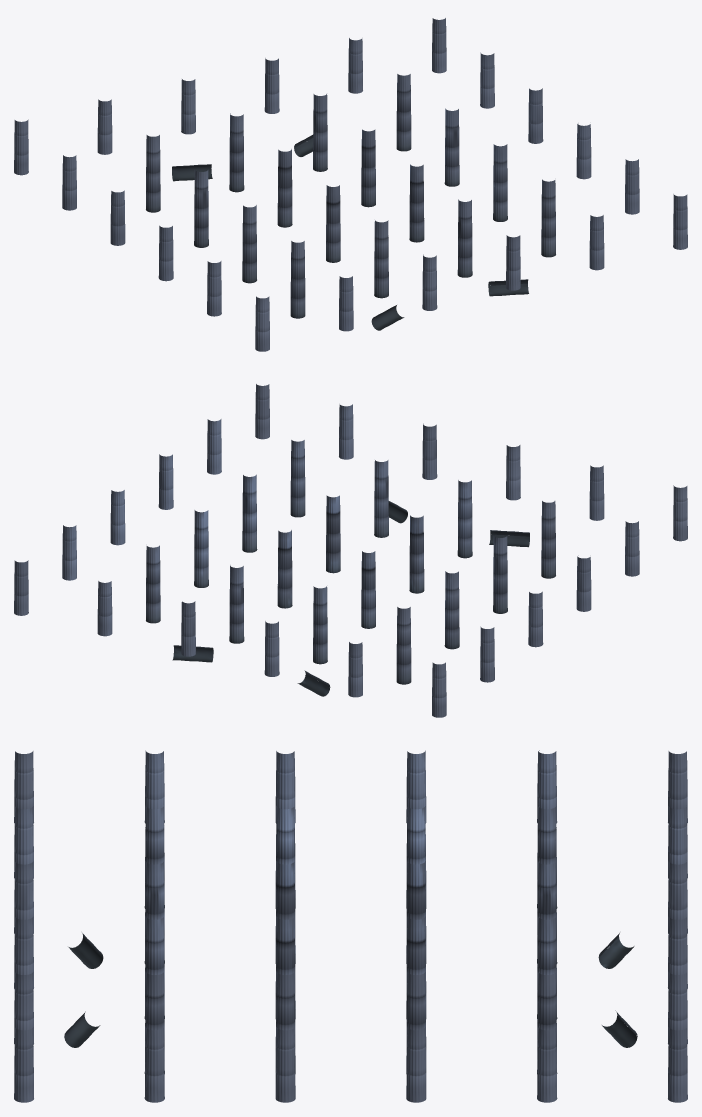
File: cistern_marble.glb
3 renders of one model, top to bottom at view 1: azimuth 30°, elevation 25°; view 2: azimuth 150°, elevation 25°; view 3: azimuth 270°, elevation 25°, orthographic. The views are drawn at different scales.
Visible parts, largest first — view 1: marble; view 2: marble; view 3: marble.
Boxes of the visible parts, left/top/right/bottom form: marble: left=14, top=18, right=687, bottom=351; marble: left=14, top=384, right=687, bottom=717; marble: left=14, top=750, right=687, bottom=1102.
Size of the model in its own units: 36.08 by 6.46 by 36.08.
